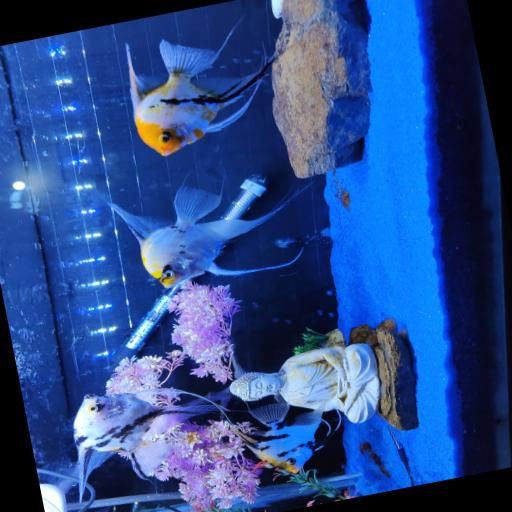Fish: (109, 186, 305, 287), (126, 24, 275, 155), (74, 389, 219, 499), (236, 404, 331, 473)
